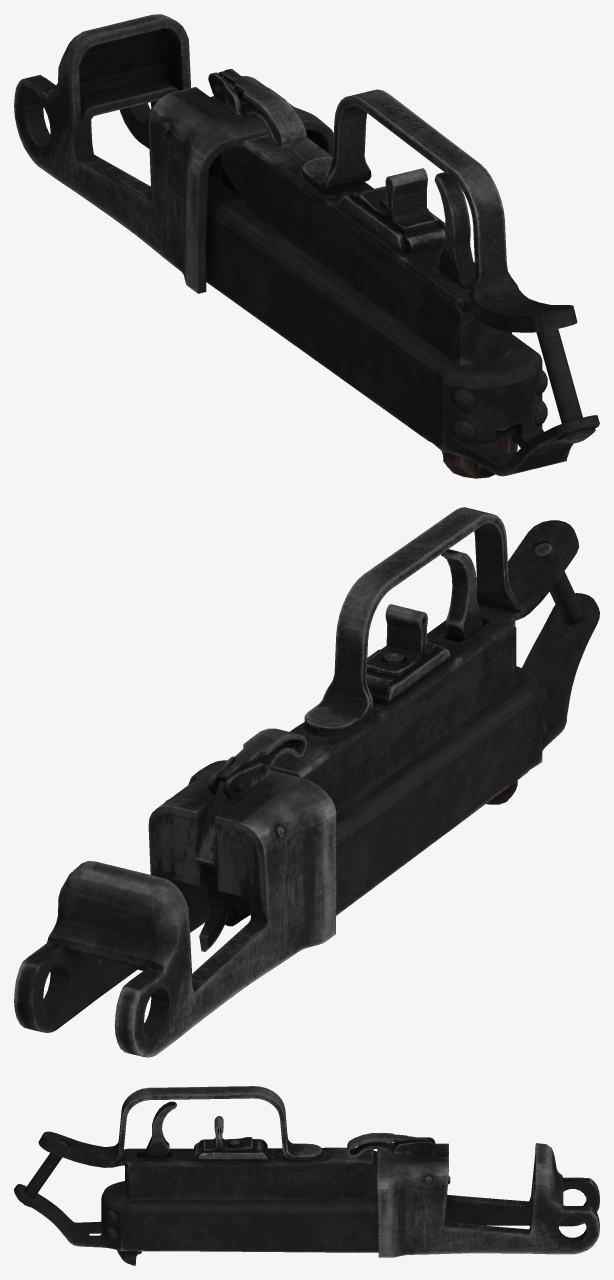
3 renders of one model, top to bottom at view 1: azimuth 30°, elevation 25°; view 2: azimuth 150°, elevation 25°; view 3: azimuth 270°, elevation 25°, orthographic. The views are drawn at different scales.
Visible parts, largest first — view 1: TW_5ea03f7400685063ec28bfa8_PZ_Import; view 2: TW_5ea03f7400685063ec28bfa8_PZ_Import; view 3: TW_5ea03f7400685063ec28bfa8_PZ_Import.
Part boxes in pixels (x1,y1,x2,y2): TW_5ea03f7400685063ec28bfa8_PZ_Import: (14,14,599,478); TW_5ea03f7400685063ec28bfa8_PZ_Import: (14,507,599,1057); TW_5ea03f7400685063ec28bfa8_PZ_Import: (14,1086,599,1265).
Bounding box in the file's own units: 0.0271 × 0.1739 × 0.0563.
1 material, 1 textured.
